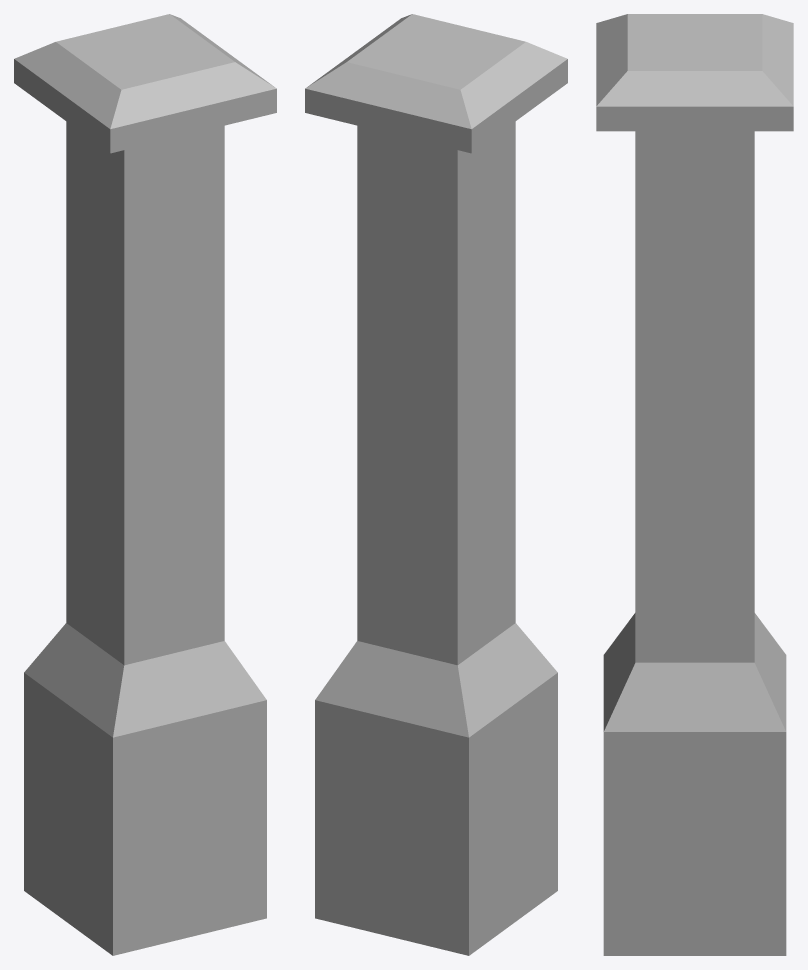
The model's file is SM_Wall_01_Pole_01.FBX.
The picture shows the model from 3 angles, left to right: view 1: azimuth 30°, elevation 25°; view 2: azimuth 150°, elevation 25°; view 3: azimuth 270°, elevation 25°; orthographic projection. The views are drawn at different scales.
Visible parts, largest first — view 1: SM_Wall_01_Pole_01; view 2: SM_Wall_01_Pole_01; view 3: SM_Wall_01_Pole_01.
Boxes of the visible parts, bbox=[...] form: SM_Wall_01_Pole_01: bbox=[14, 14, 276, 955]; SM_Wall_01_Pole_01: bbox=[305, 14, 567, 955]; SM_Wall_01_Pole_01: bbox=[596, 14, 793, 955].
Bounding box in the file's own units: 0.4455 × 2.18 × 0.4455.
1 material, 1 textured.
